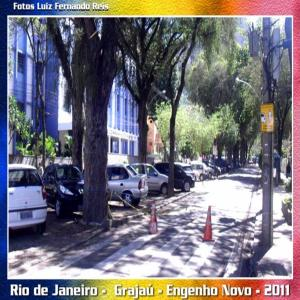Vehicle-registration-plate: (23, 211, 34, 220)
